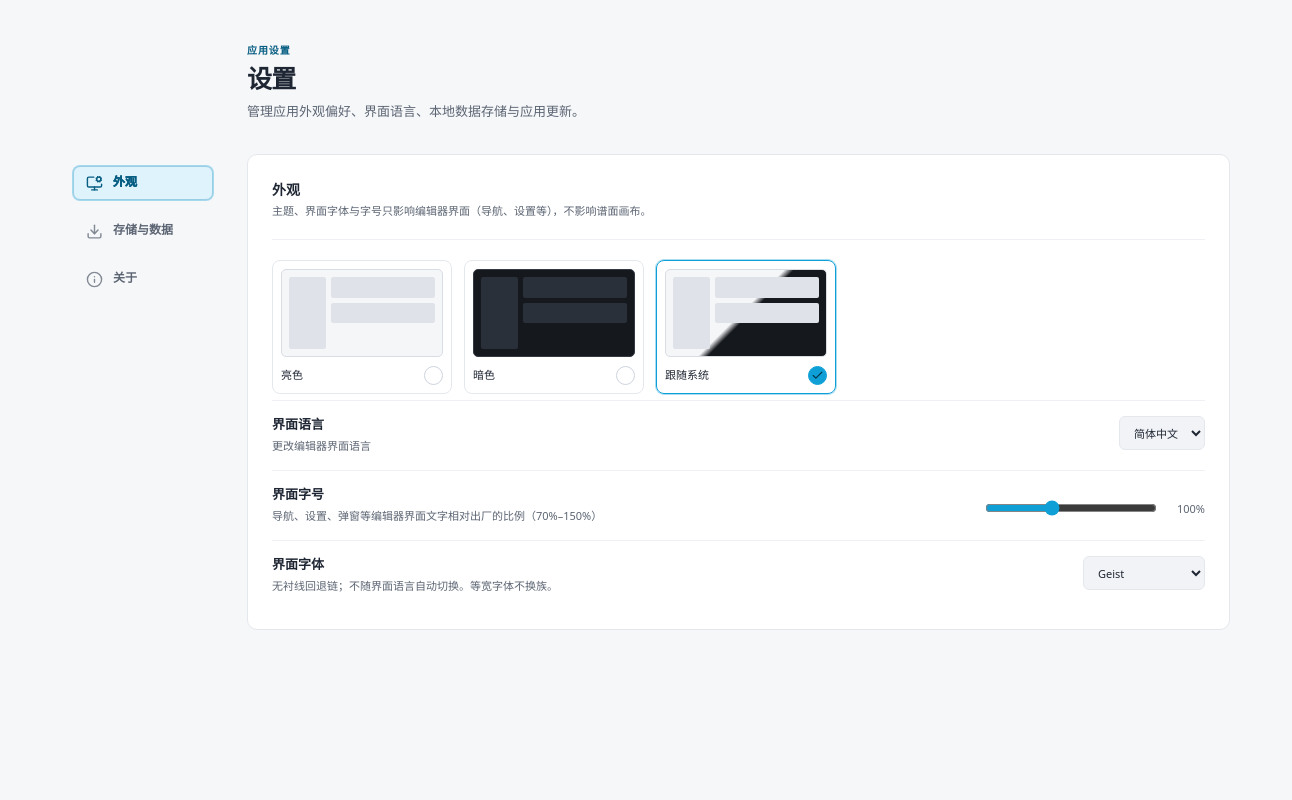
Test: 票 39 · 切换数据目录后的即时联动 › 切根后旧工程在新目录仍存在（同 id）：会话保留，只通知不重置
This screenshot has width=1292, height=800.
Click the button "存储与数据" at (143, 230), box [73,214,213,248]
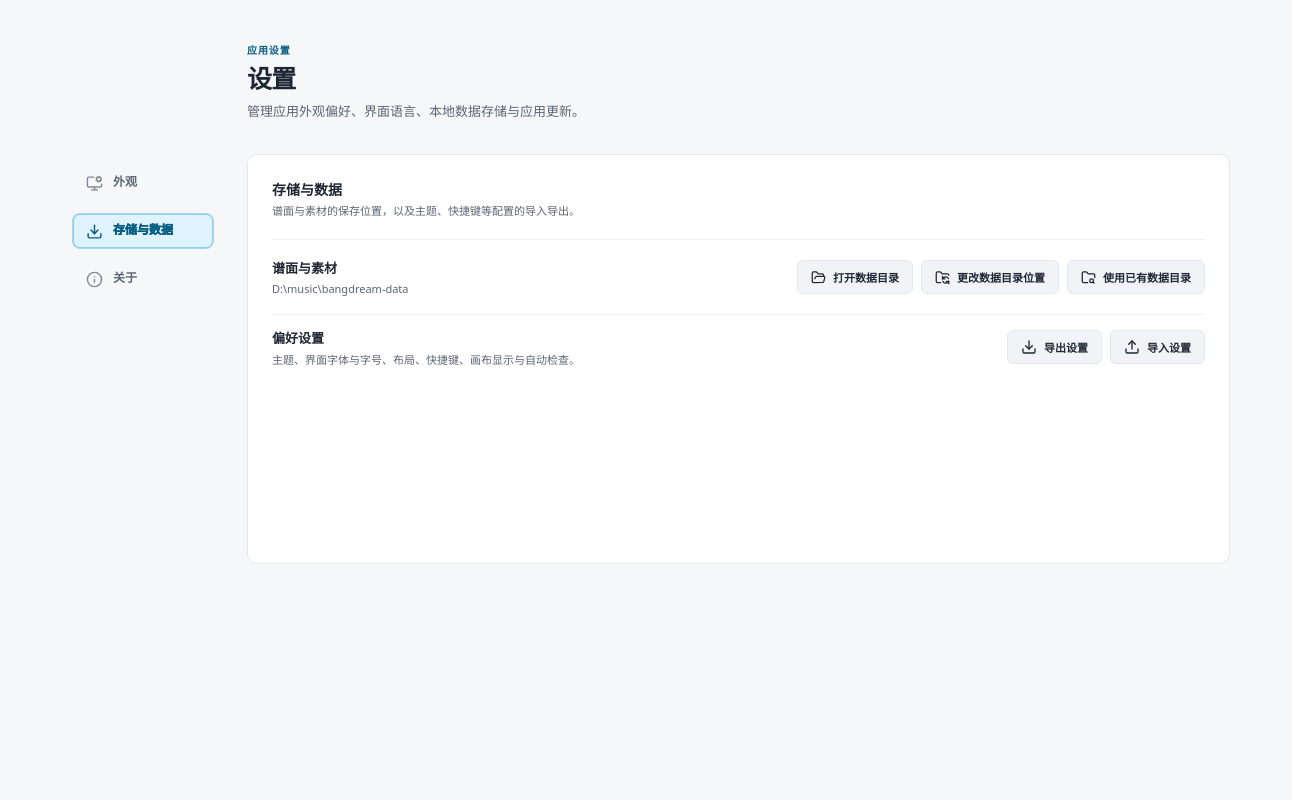
Check: the text "D:\\music\\bangdream-data" is shown, box [272,281,408,296]
Click the button "使用已有数据目录" at (1136, 277), box [1067,260,1205,294]
(page scrolled)
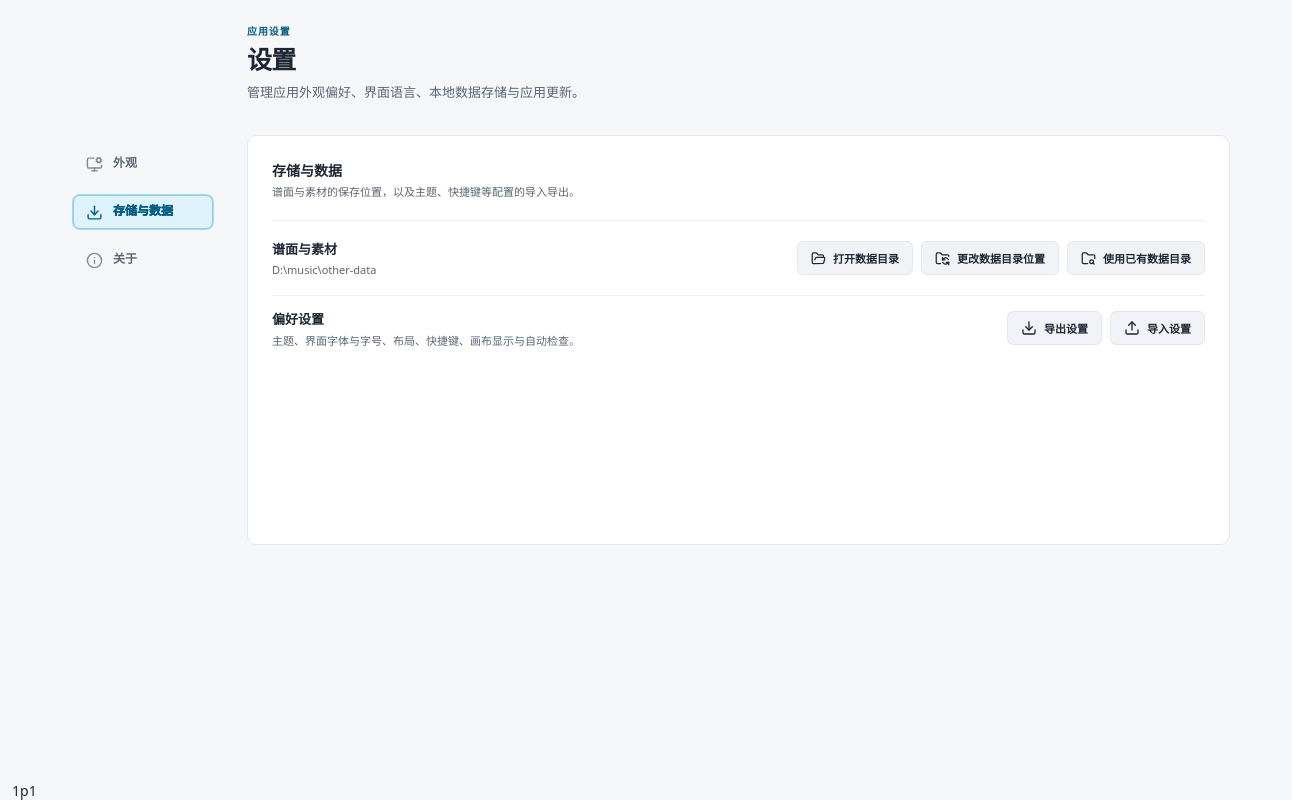
Check: the text with test id "probe-project" reads "p1", box [20,781,37,799]
Check: the text with test id "probe-epoch" reads "1", box [12,781,20,799]
